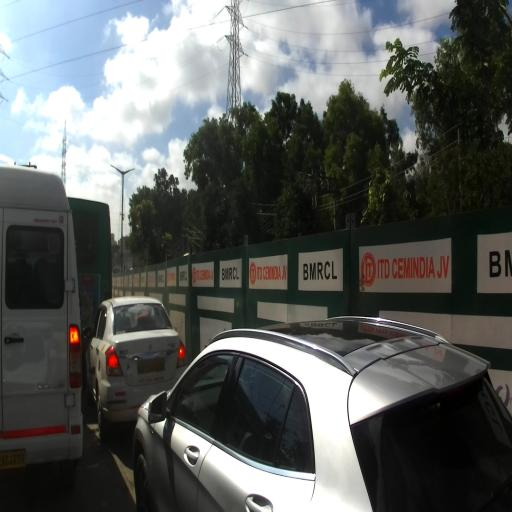street_light_0: (110, 164, 124, 177), (121, 168, 135, 178)
